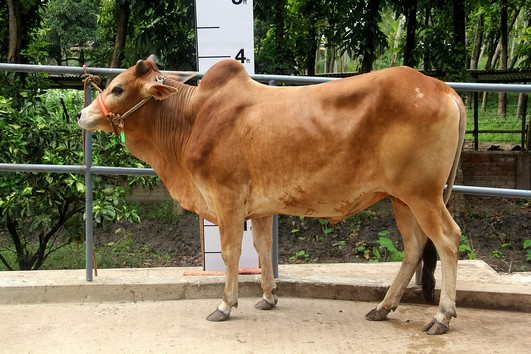cow: (73, 50, 471, 339)
